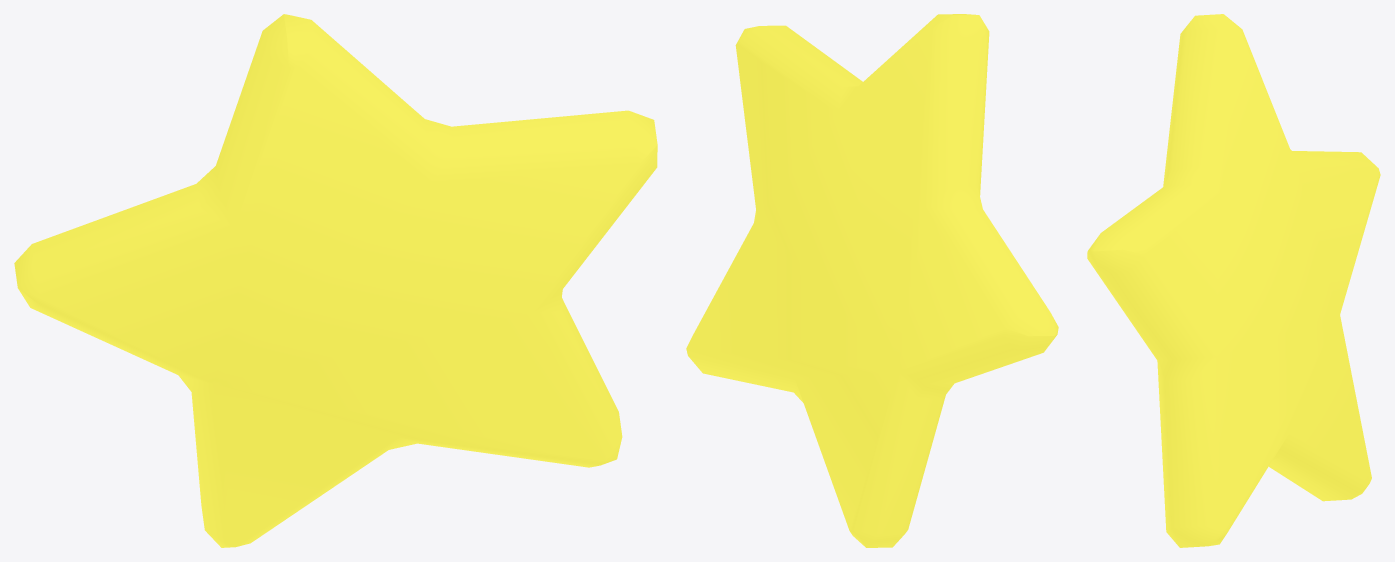
Rendered from floatingstar.gltf.
3 renders of one model, left to right at view 1: azimuth 30°, elevation 25°; view 2: azimuth 150°, elevation 25°; view 3: azimuth 270°, elevation 25°, orthographic. The views are drawn at different scales.
Parts seen in each view (by area): view 1: star.001; view 2: star.001; view 3: star.001.
Boxes of the visible parts, box(x1,y1,x2,y2) form: star.001: box(14, 14, 657, 547); star.001: box(686, 14, 1058, 547); star.001: box(1087, 14, 1380, 547).
Bounding box in the file's own units: 6.79 × 7.36 × 4.08.
